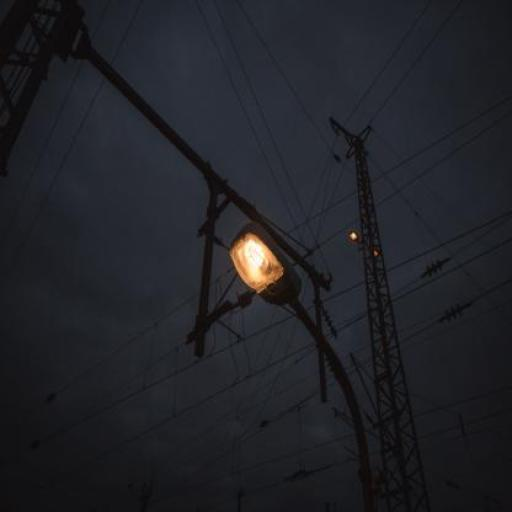street light: (227, 220, 374, 511)
